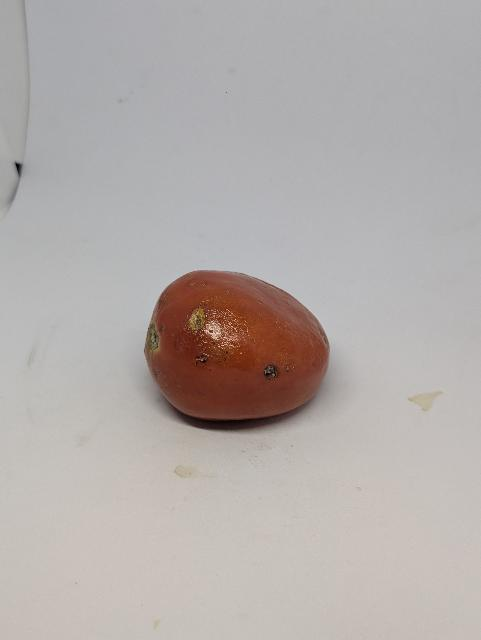defect: (142, 267, 336, 427)
